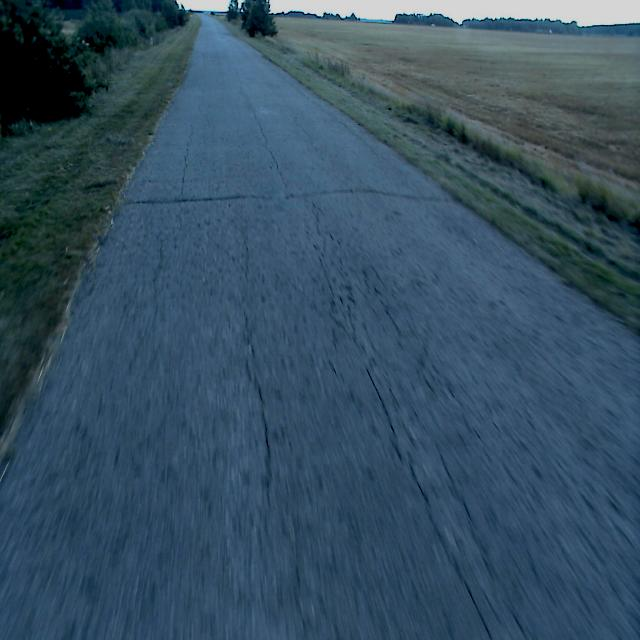road: (0, 13, 640, 639)
